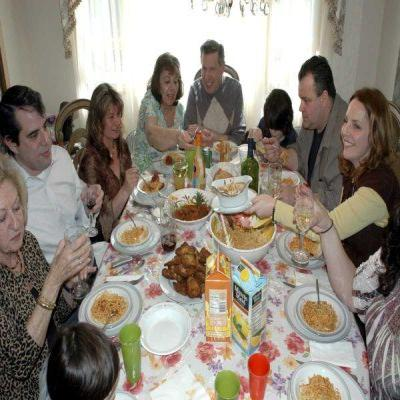happy: (340, 104, 368, 158), (202, 50, 224, 94), (159, 67, 181, 107), (103, 100, 122, 138)
netural: (18, 102, 52, 172), (0, 175, 23, 253), (296, 77, 322, 131)
